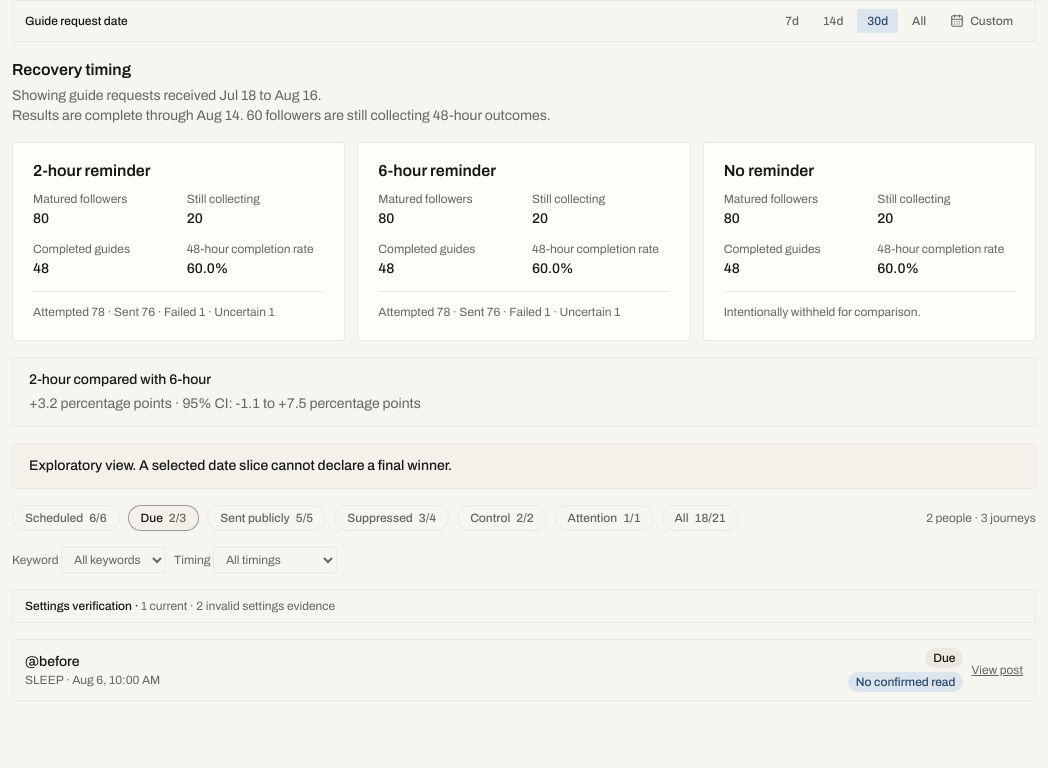
Scenario: DmRecoveryList › filters › does not show the unfiltered rows under a filter
Expected: the text "@before" is shown, [25,654,80,669]
Select "No reminder" in the dropdown labelled "Timing": (275, 560) [213,547,337,573]
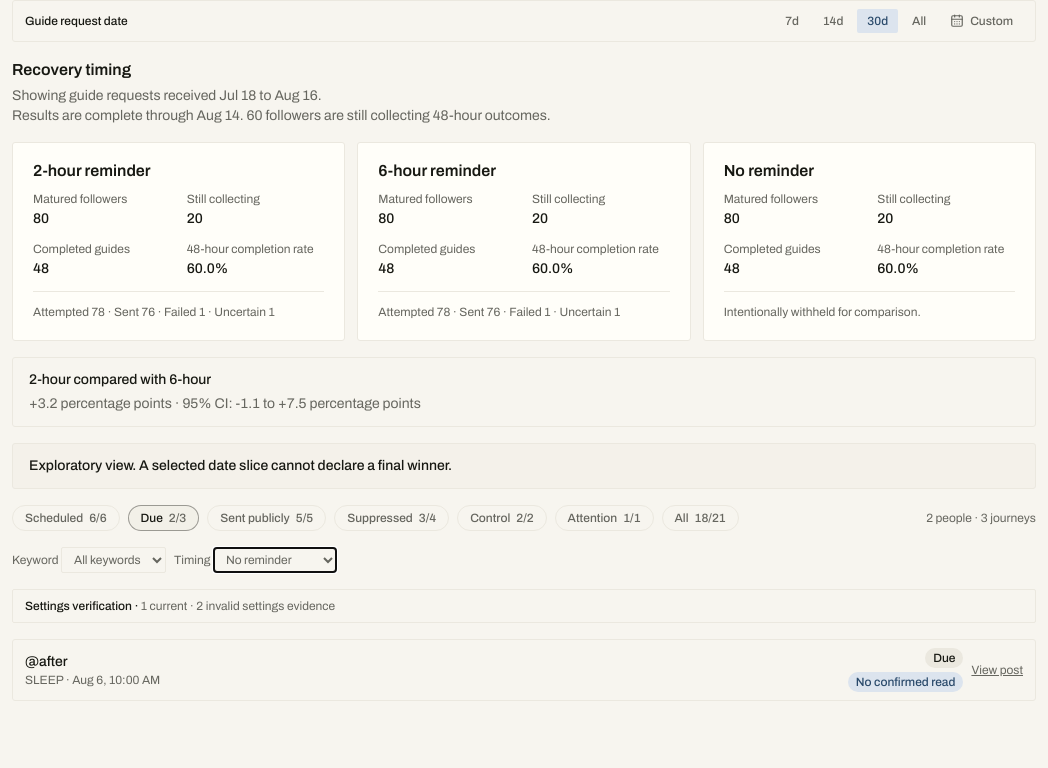
Expected: the text "@after" is shown, [25,654,68,669]
Expected: the button "@before" is gone
